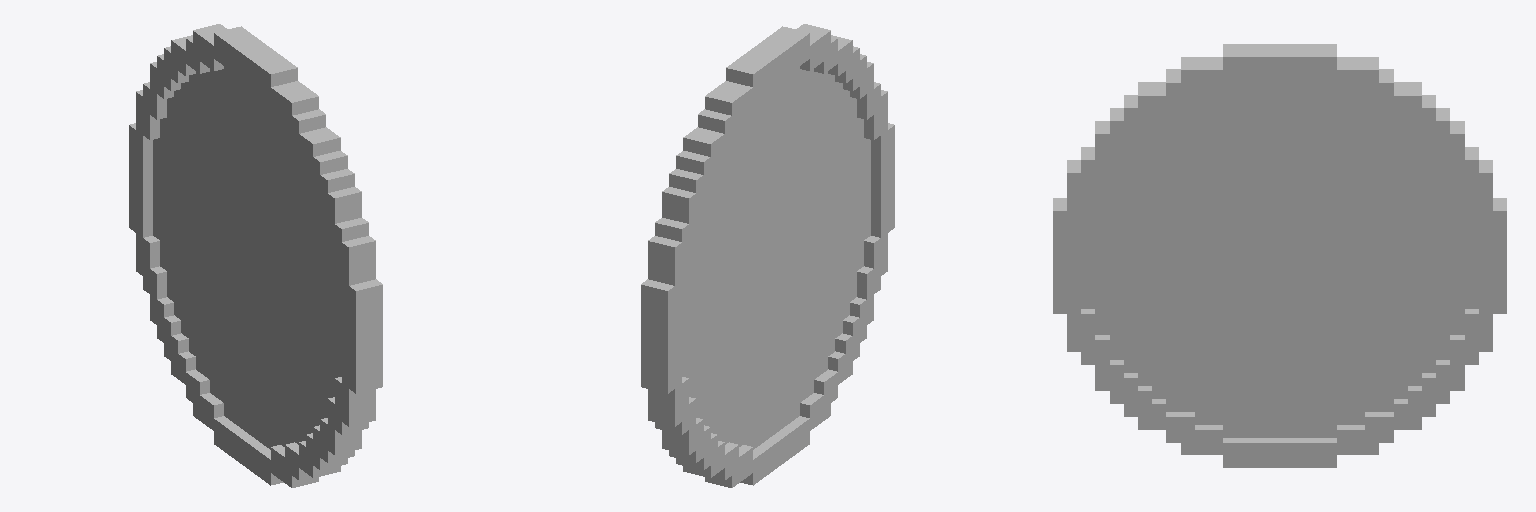
File: coin.obj
3 renders of one model, left to right at view 1: azimuth 30°, elevation 25°; view 2: azimuth 150°, elevation 25°; view 3: azimuth 270°, elevation 25°, orthographic.
Parts seen in each view (by area): view 1: Plane; view 2: Plane; view 3: Plane.
Part boxes in pixels (bbox=[...]): Plane: bbox=[129, 24, 382, 487]; Plane: bbox=[641, 24, 894, 487]; Plane: bbox=[1053, 44, 1506, 467].
Size of the model in its own units: 0.0475 by 0.683 by 0.6844.